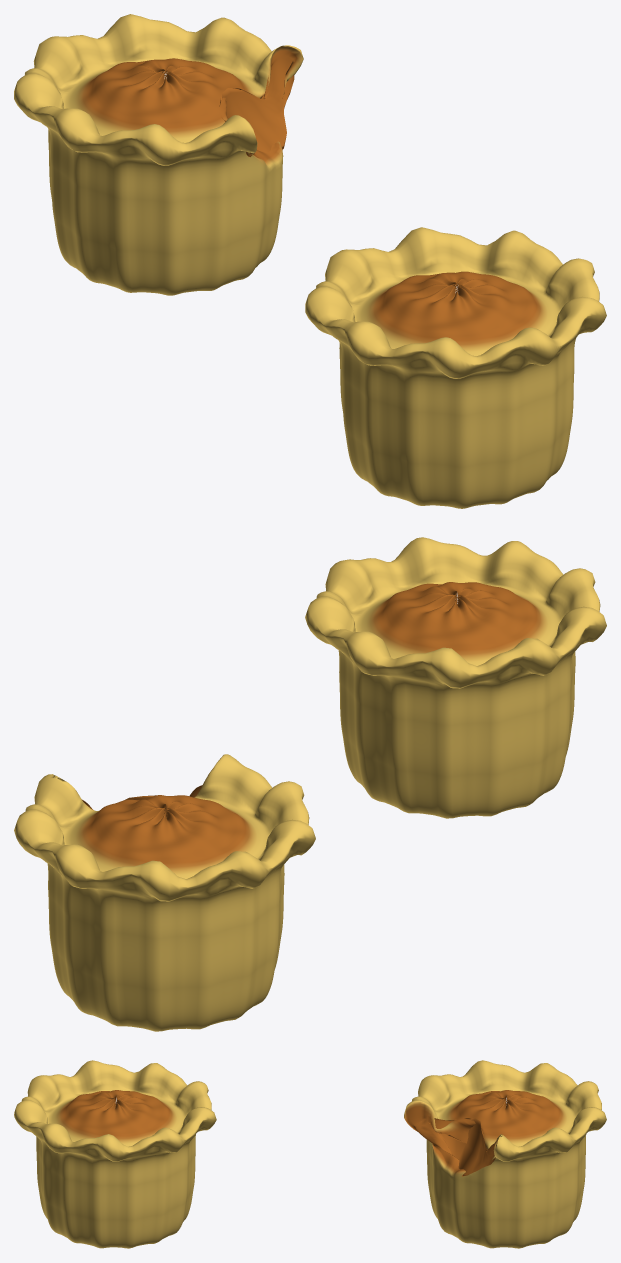
The model's file is siumai.glb.
The picture shows the model from 3 angles, top to bottom: view 1: azimuth 30°, elevation 25°; view 2: azimuth 150°, elevation 25°; view 3: azimuth 270°, elevation 25°; orthographic projection. The views are drawn at different scales.
Parts seen in each view (by area): view 1: SiumaiBody, SiumaiBitten; view 2: SiumaiBody, SiumaiBitten; view 3: SiumaiBitten, SiumaiBody.
Part boxes in pixels (x1=…): SiumaiBody: x1=305, y1=227, x2=606, y2=508; SiumaiBitten: x1=14, y1=14, x2=303, y2=295; SiumaiBody: x1=305, y1=537, x2=606, y2=818; SiumaiBitten: x1=14, y1=754, x2=315, y2=1031; SiumaiBitten: x1=404, y1=1060, x2=606, y2=1248; SiumaiBody: x1=14, y1=1060, x2=216, y2=1248.
Size of the model in its own units: 0.5156 by 0.3561 by 1.52.
